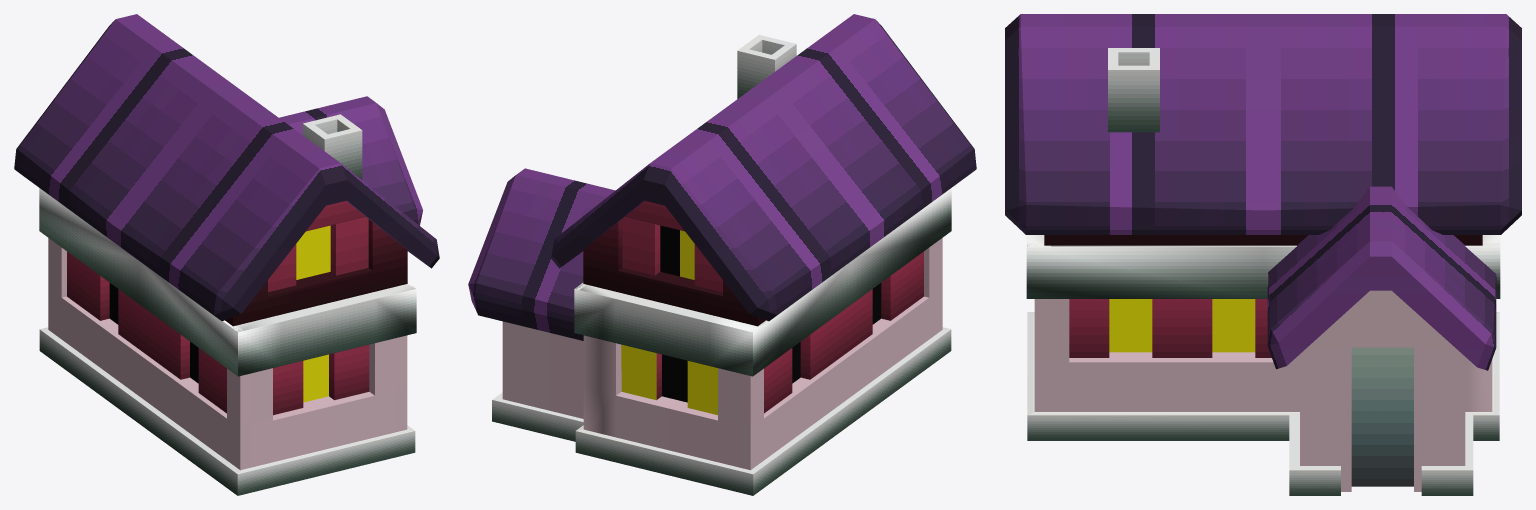
File: house_2.fbx
3 renders of one model, left to right at view 1: azimuth 30°, elevation 25°; view 2: azimuth 150°, elevation 25°; view 3: azimuth 270°, elevation 25°, orthographic. The views are drawn at different scales.
Parts seen in each view (by area): view 1: farm_house_lvl4; view 2: farm_house_lvl4; view 3: farm_house_lvl4.
Boxes of the visible parts, box(x1,y1,x2,y2) form: farm_house_lvl4: box(14, 14, 439, 495); farm_house_lvl4: box(468, 14, 976, 495); farm_house_lvl4: box(1005, 14, 1521, 495).
Size of the model in its own units: 163 by 153 by 194.
